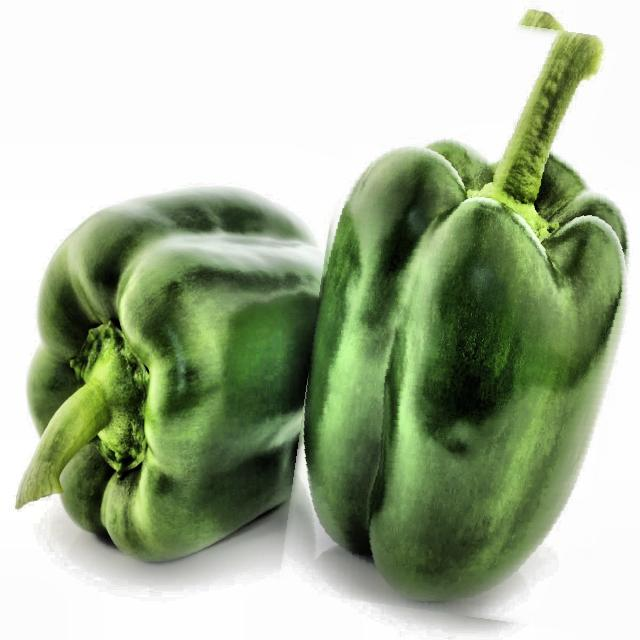capsicum: (298, 11, 640, 623)
